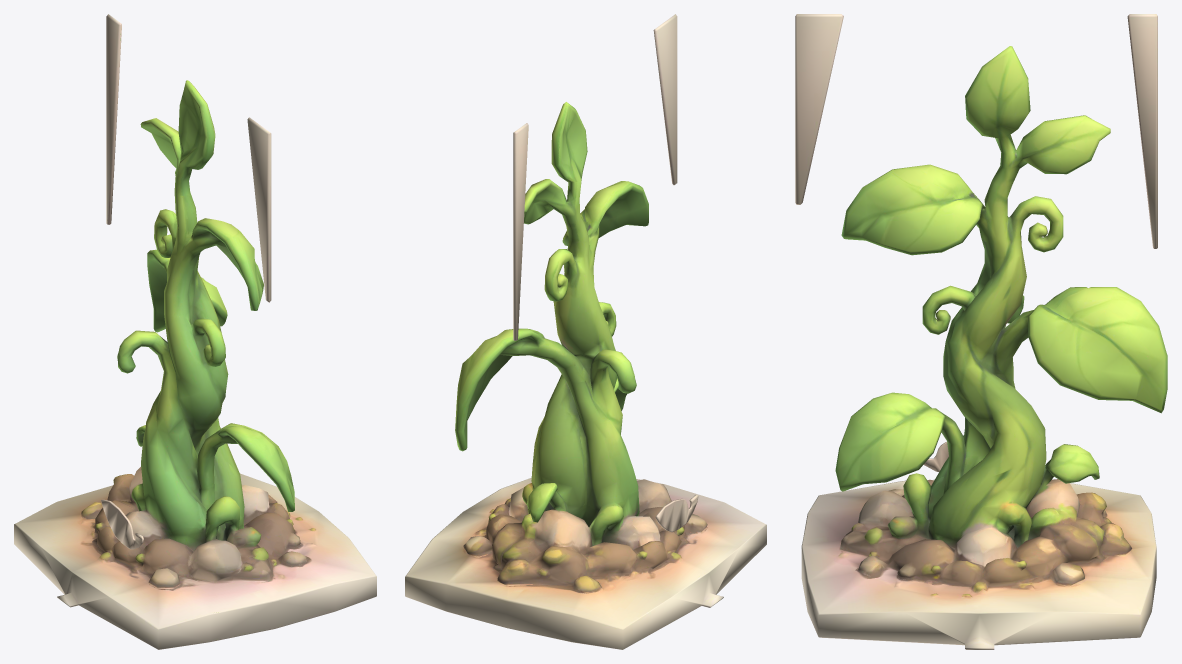
3 renders of one model, left to right at view 1: azimuth 30°, elevation 25°; view 2: azimuth 150°, elevation 25°; view 3: azimuth 270°, elevation 25°, orthographic. The views are drawn at different scales.
Visible parts, largest first — view 1: tripo_node_c5fae8dc-6843-4e29-a69b-ae507605d069; view 2: tripo_node_c5fae8dc-6843-4e29-a69b-ae507605d069; view 3: tripo_node_c5fae8dc-6843-4e29-a69b-ae507605d069.
Boxes of the visible parts, left/top/right/bottom form: tripo_node_c5fae8dc-6843-4e29-a69b-ae507605d069: left=14, top=14, right=376, bottom=649; tripo_node_c5fae8dc-6843-4e29-a69b-ae507605d069: left=405, top=14, right=766, bottom=649; tripo_node_c5fae8dc-6843-4e29-a69b-ae507605d069: left=795, top=14, right=1167, bottom=649.
Bounding box in the file's own units: 0.5479 × 0.998 × 0.6008.
Materials: 1 (1 with a texture image).
